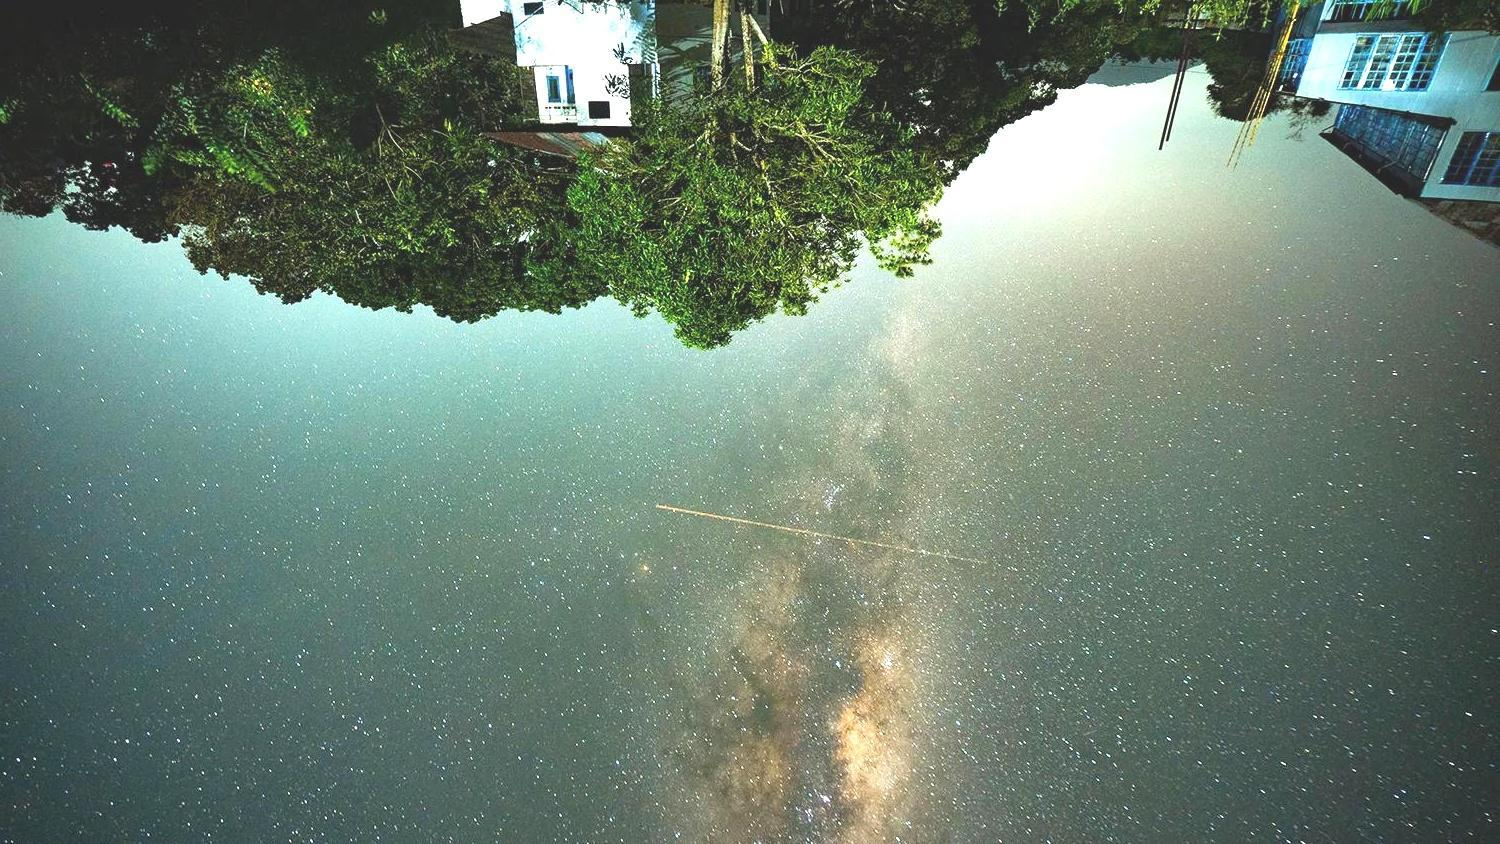meteorite: (623, 493, 843, 537)
